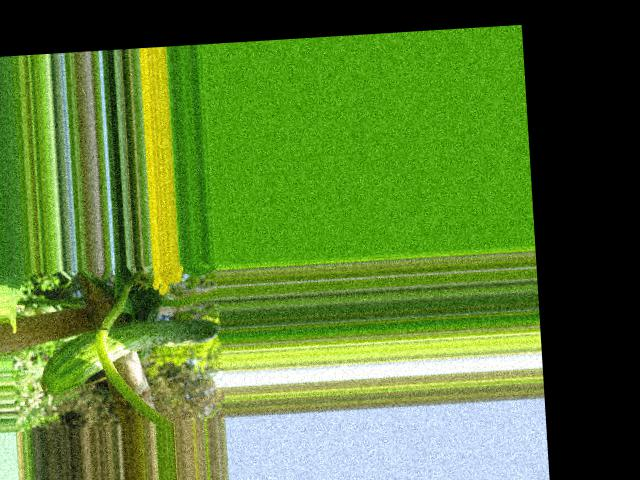cucumber: (37, 316, 223, 394)
